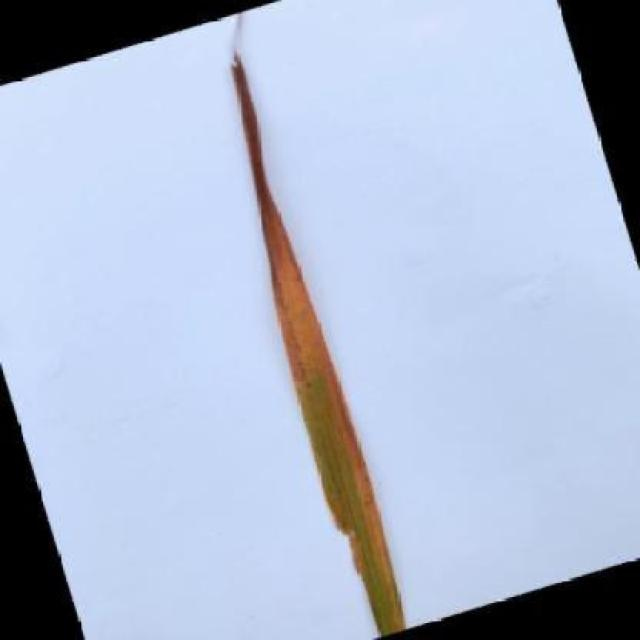Rice False Smut: (178, 14, 422, 640)
